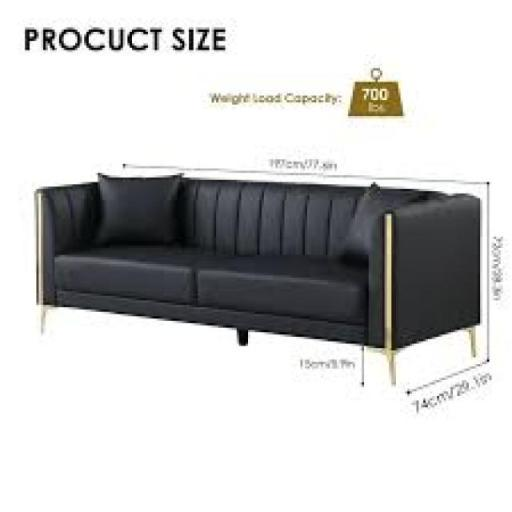sofa: (24, 150, 512, 425)
